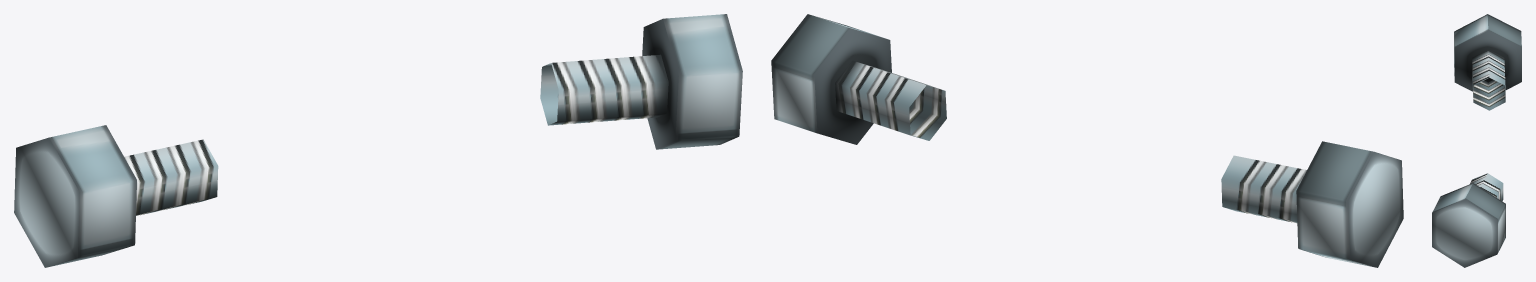
The model's file is acc_hatBolt.FBX.
3 renders of one model, left to right at view 1: azimuth 30°, elevation 25°; view 2: azimuth 150°, elevation 25°; view 3: azimuth 270°, elevation 25°, orthographic. The views are drawn at different scales.
Visible parts, largest first — view 1: Acc_hatBolts; view 2: Acc_hatBolts; view 3: Acc_hatBolts.
Boxes of the visible parts, x1,y1,x2,y2 form: Acc_hatBolts: (14, 14, 742, 267); Acc_hatBolts: (771, 14, 1403, 267); Acc_hatBolts: (1432, 14, 1521, 267).
Size of the model in its own units: 132 by 28.24 by 28.14.
